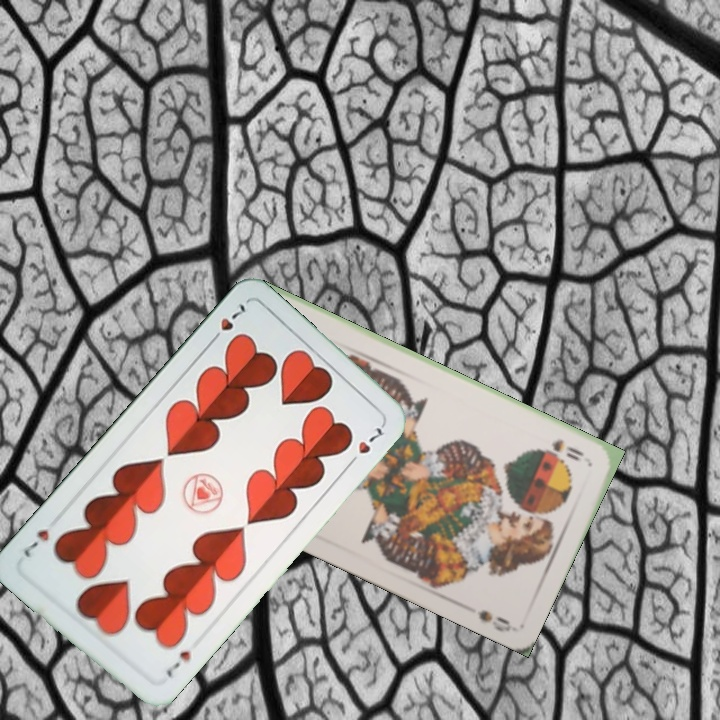H7: (205, 298, 248, 347), (162, 646, 194, 680)
SO: (547, 435, 587, 464)
